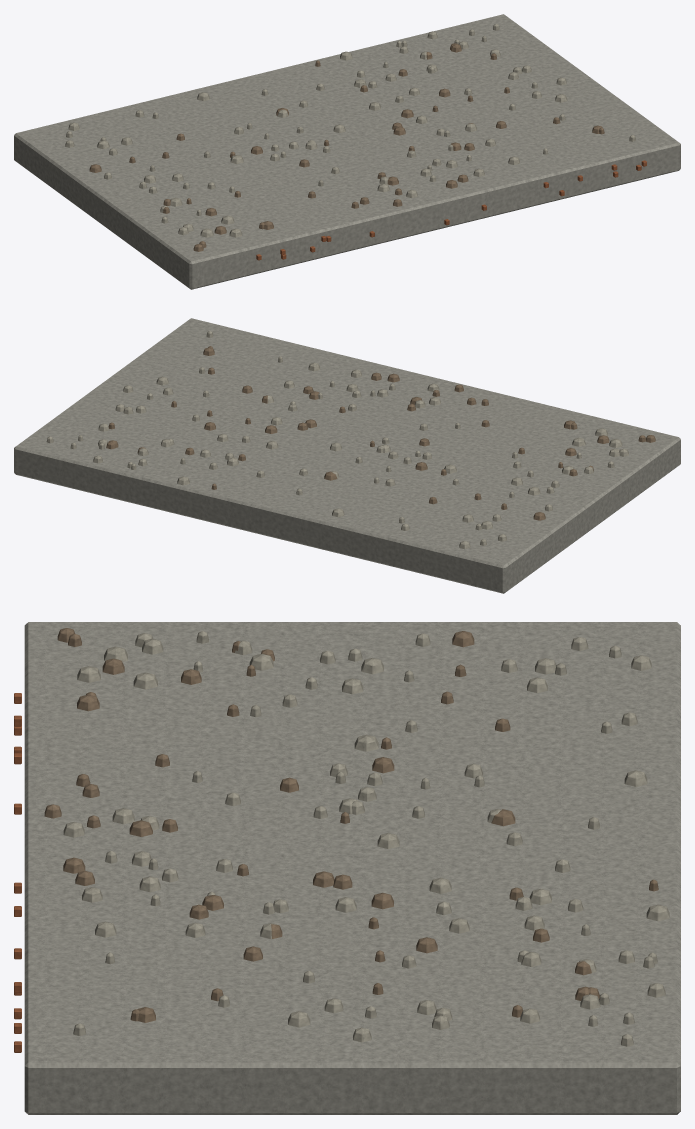
Rendered from TUNN31CC_lod0.glb.
3 views of the same model, one above another, from view 1: azimuth 30°, elevation 25°; view 2: azimuth 150°, elevation 25°; view 3: azimuth 270°, elevation 25° (orthographic). The views are drawn at different scales.
Visible parts, largest first — view 1: TUNN31CC_LOD0; view 2: TUNN31CC_LOD0; view 3: TUNN31CC_LOD0.
Boxes of the visible parts, left/top/right/bottom form: TUNN31CC_LOD0: left=14, top=14, right=680, bottom=289; TUNN31CC_LOD0: left=14, top=318, right=680, bottom=593; TUNN31CC_LOD0: left=14, top=622, right=680, bottom=1114.
Bounding box in the file's own units: 4 × 0.26 × 2.54.
Materials: 4 (4 with a texture image).
